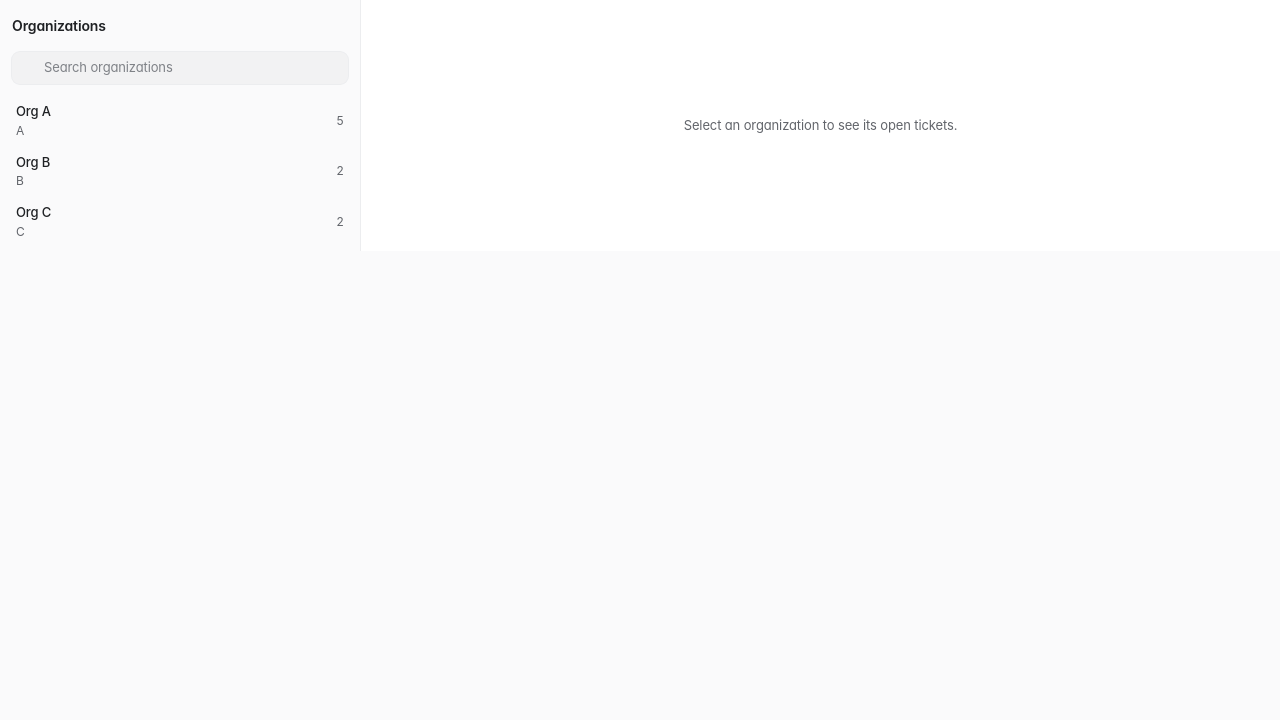
OrgsScreen (section 12) › the View menu changes the shared options and shows the summary (LIST-39…43)
The width and height of the screenshot is (1280, 720).
Click the text "Org A". click: click(33, 111)
box: [16,103,51,119]
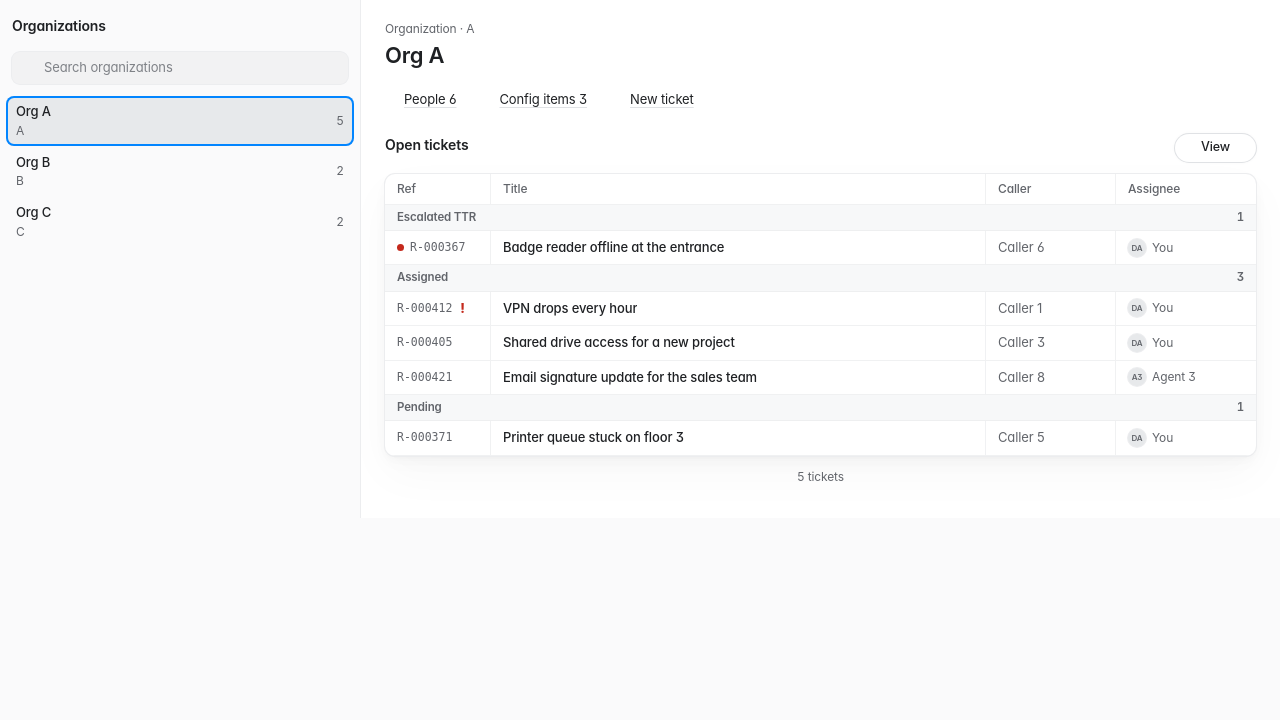
Click the button with aria-label "View options". click: click(1215, 148)
box: [1174,134,1256,162]
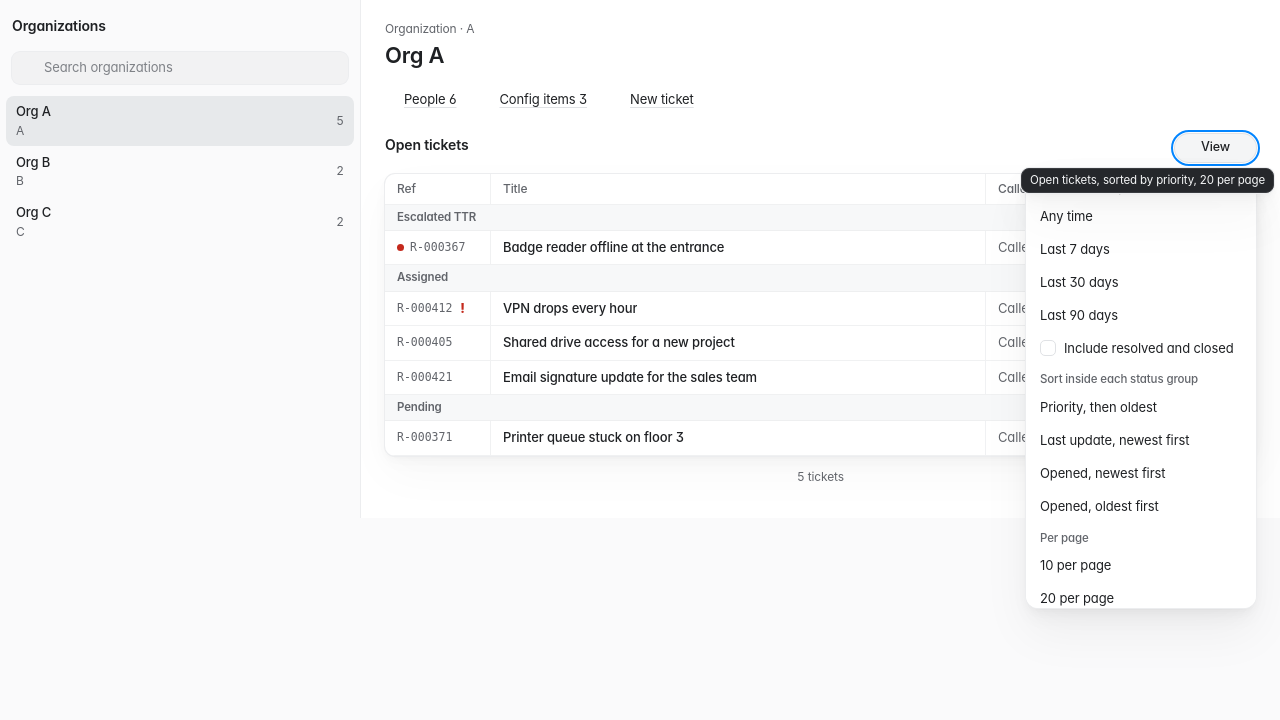
Click the menu item "Include resolved and closed". click: click(1141, 348)
box: [1032,332,1250,364]
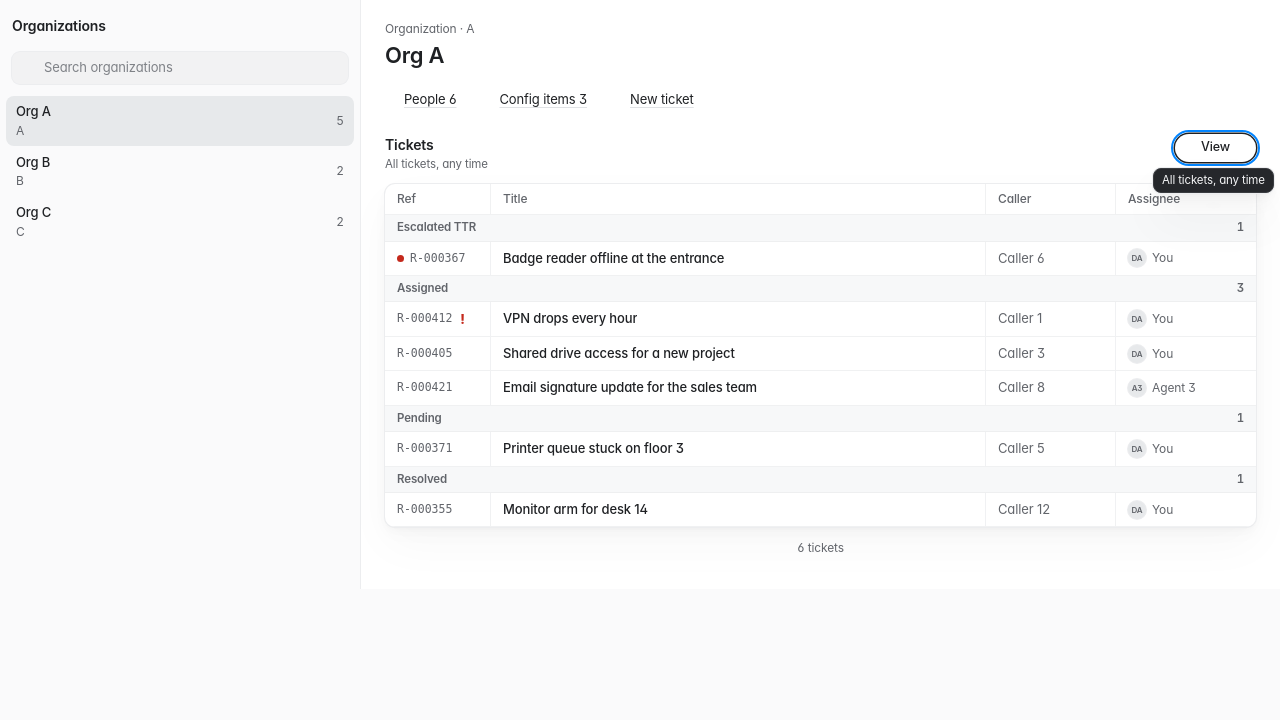
Expected: the heading "Tickets" is shown, [385,136,434,152]
Expected: the text "All tickets, any time" is shown, [385,156,488,170]
Click the button with aria-label "View options". click: click(1215, 148)
box: [1174,134,1256,162]
(page scrolled)
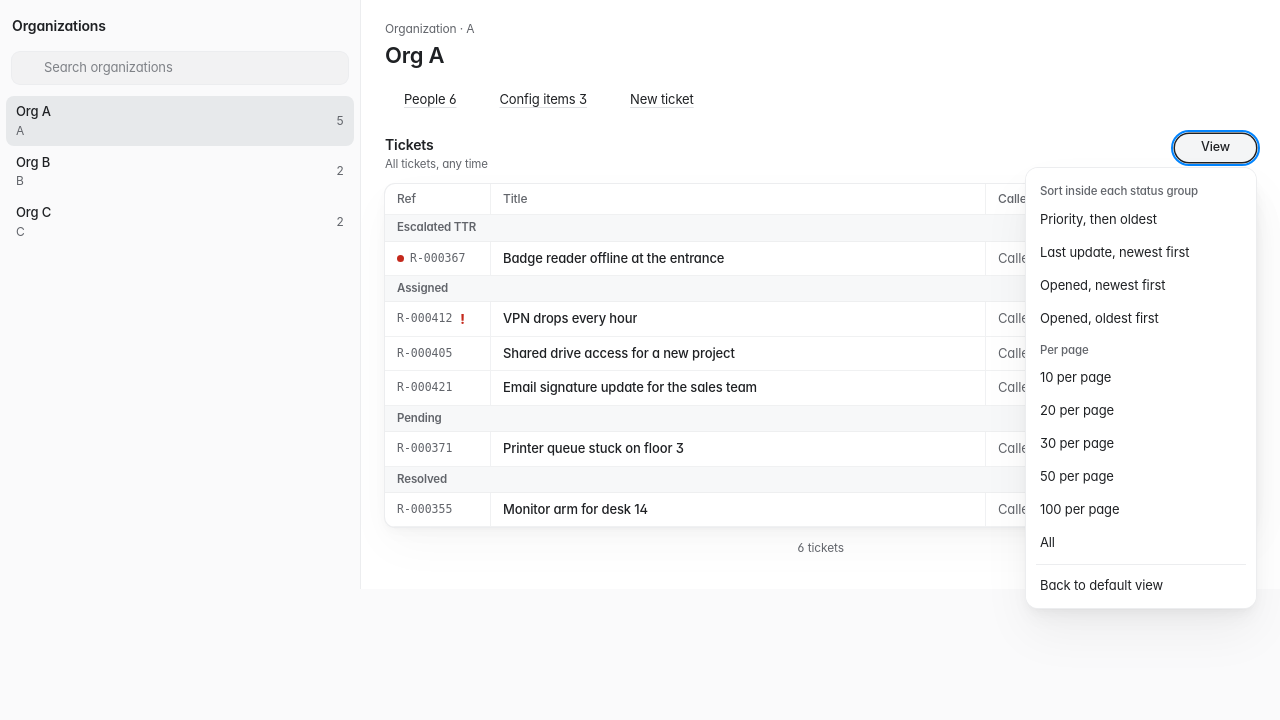
Click the menu item "Back to default view". click: click(1141, 585)
box: [1032,569,1250,601]
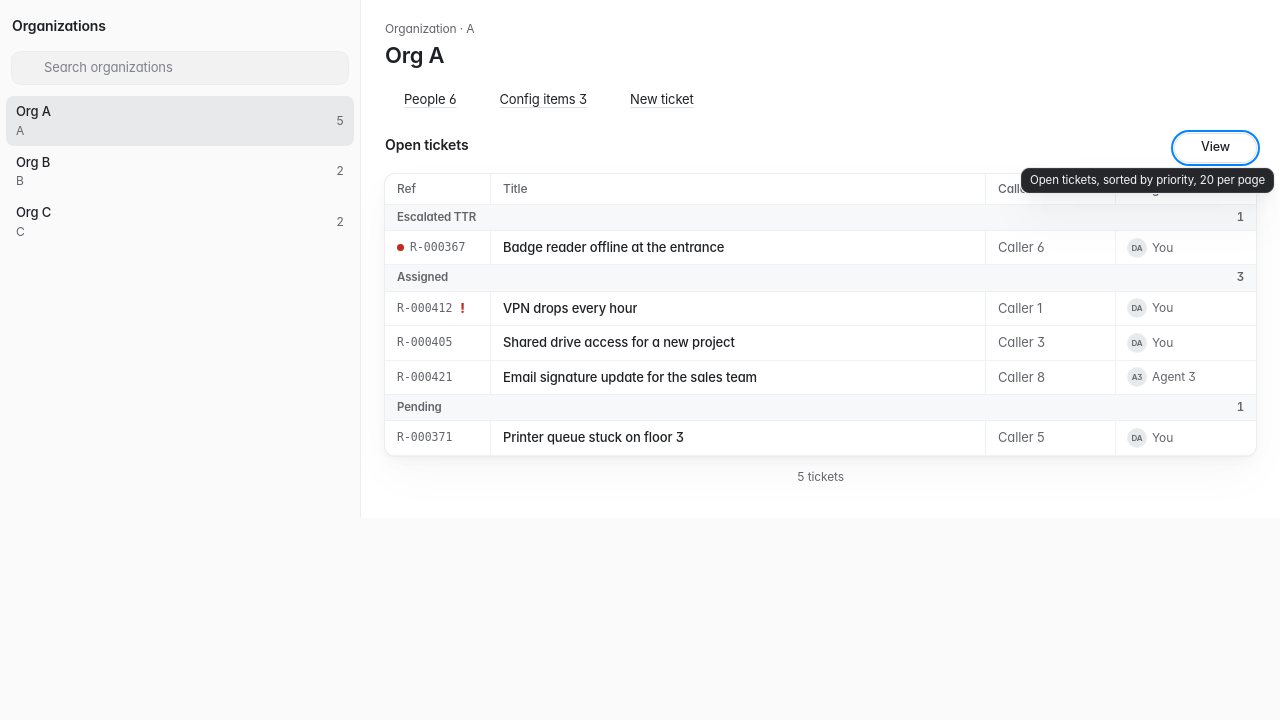
Expected: the heading "Open tickets" is shown, [385,136,468,152]
